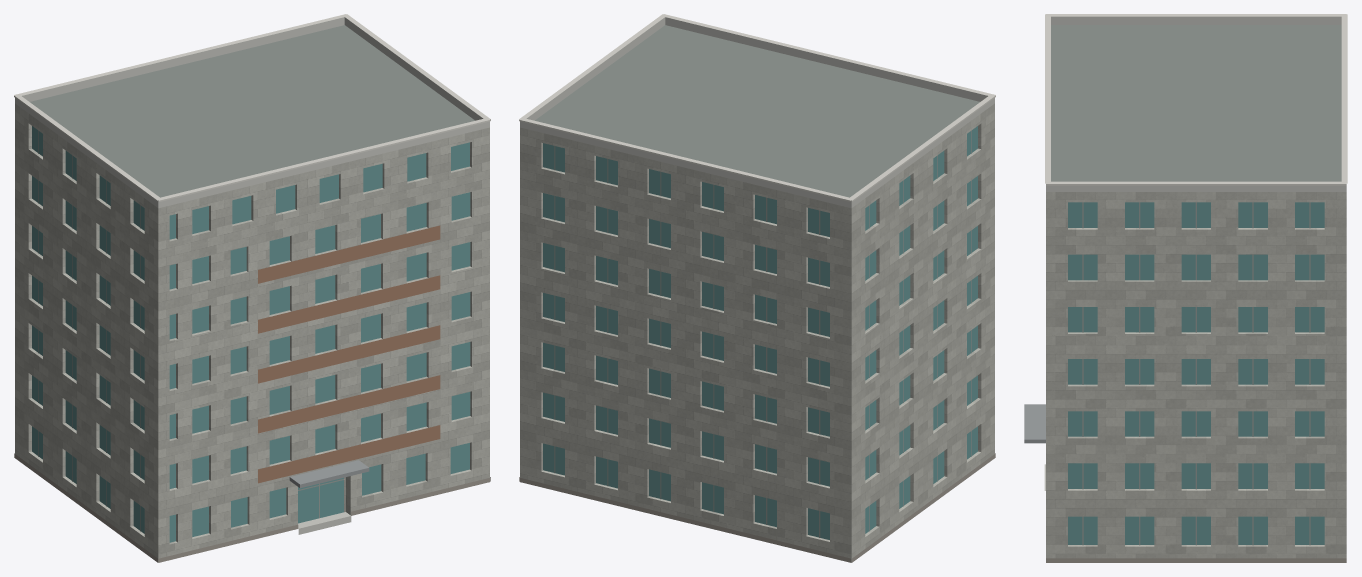
3 views of the same model, side by side, from view 1: azimuth 30°, elevation 25°; view 2: azimuth 150°, elevation 25°; view 3: azimuth 270°, elevation 25° (orthographic). The views are drawn at different scales.
Visible parts, largest first — view 1: love__wall, love__roof, love__glass, love__wall2, love__parapet, love__trim, love__base, love__canopy, love__frame, love__entranceThreshold_0; view 2: love__wall, love__roof, love__glass, love__parapet, love__trim, love__frame, love__base; view 3: love__wall, love__roof, love__glass, love__parapet, love__trim, love__frame, love__base, love__canopy.
Part boxes in pixels (x1,y1,x2,y2): love__wall: (15,103,489,562); love__roof: (30,25,474,562); love__glass: (32,126,470,542); love__wall2: (258,225,440,483); love__parapet: (15,17,489,208); love__trim: (14,14,490,201); love__base: (14,453,490,562); love__canopy: (289,460,369,488); love__frame: (38,130,344,531); love__entranceThreshold_0: (298,512,351,534); love__wall: (520,103,994,562); love__roof: (535,25,979,562); love__glass: (543,126,977,539); love__parapet: (520,17,994,208); love__trim: (519,14,995,201); love__frame: (554,130,971,537); love__base: (519,453,995,562); love__wall: (1046,192,1346,558); love__roof: (1051,25,1341,181); love__glass: (1068,202,1324,544); love__parapet: (1046,16,1346,191); love__trim: (1045,14,1347,185); love__frame: (1082,202,1310,545); love__base: (1046,558,1346,562); love__canopy: (1024,404,1045,443).
Bounding box in the file's own units: 24.12 × 25.45 × 19.36.
11 materials, 1 textured.
